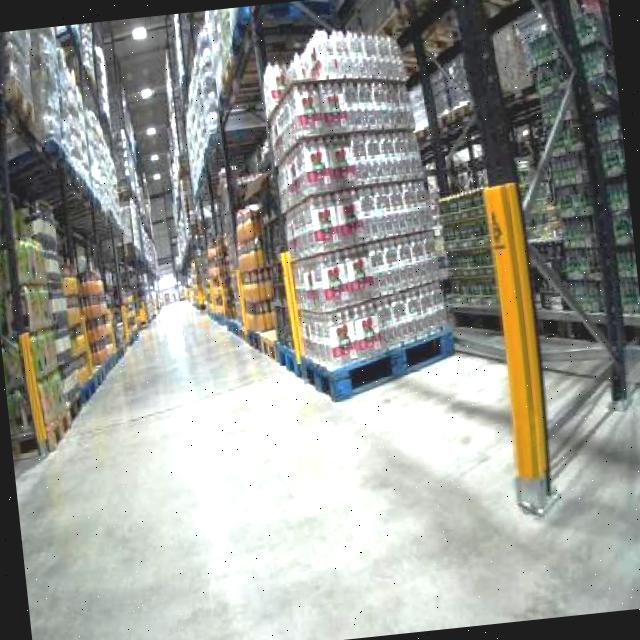ground: (0, 250, 640, 640)
pallet: (153, 0, 640, 550), (0, 18, 194, 640), (407, 0, 640, 421), (253, 17, 460, 405), (500, 0, 640, 359), (0, 181, 166, 476)
